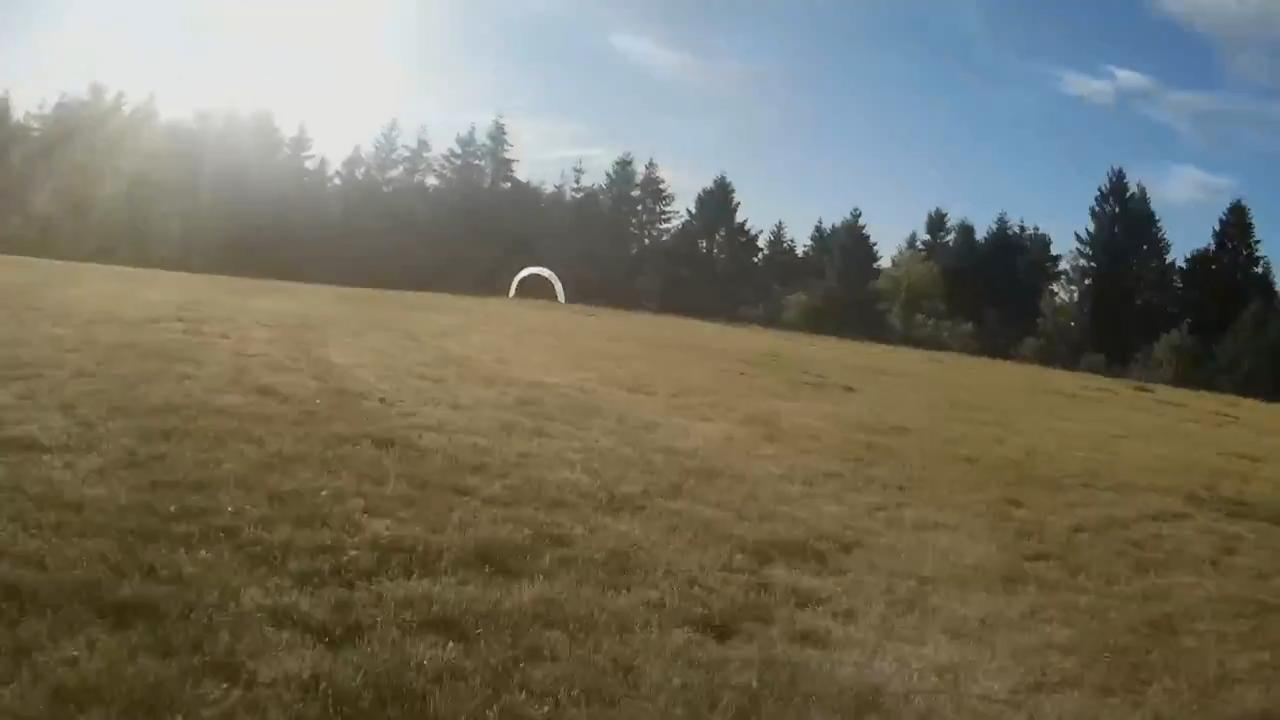gate: (506, 263, 562, 304)
